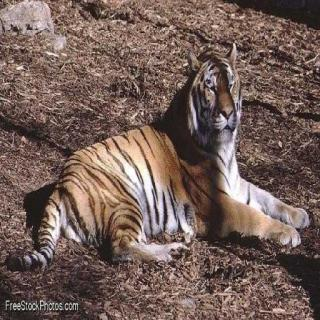Tiger: (0, 40, 320, 278)
